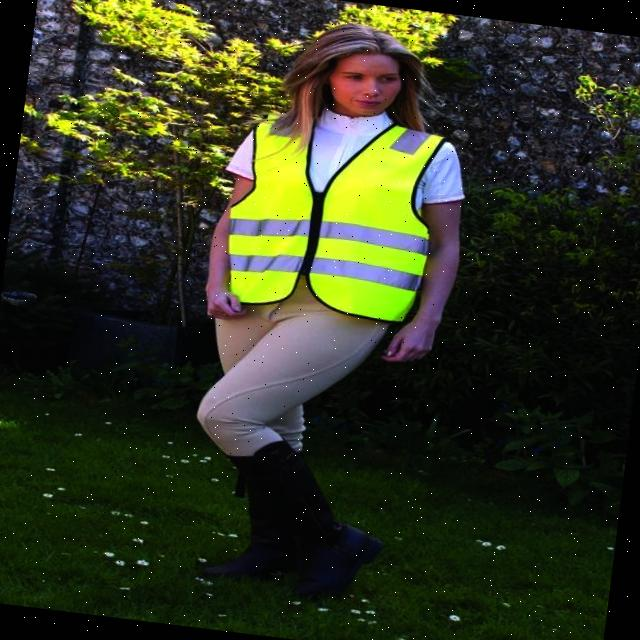vest: (210, 101, 453, 331)
